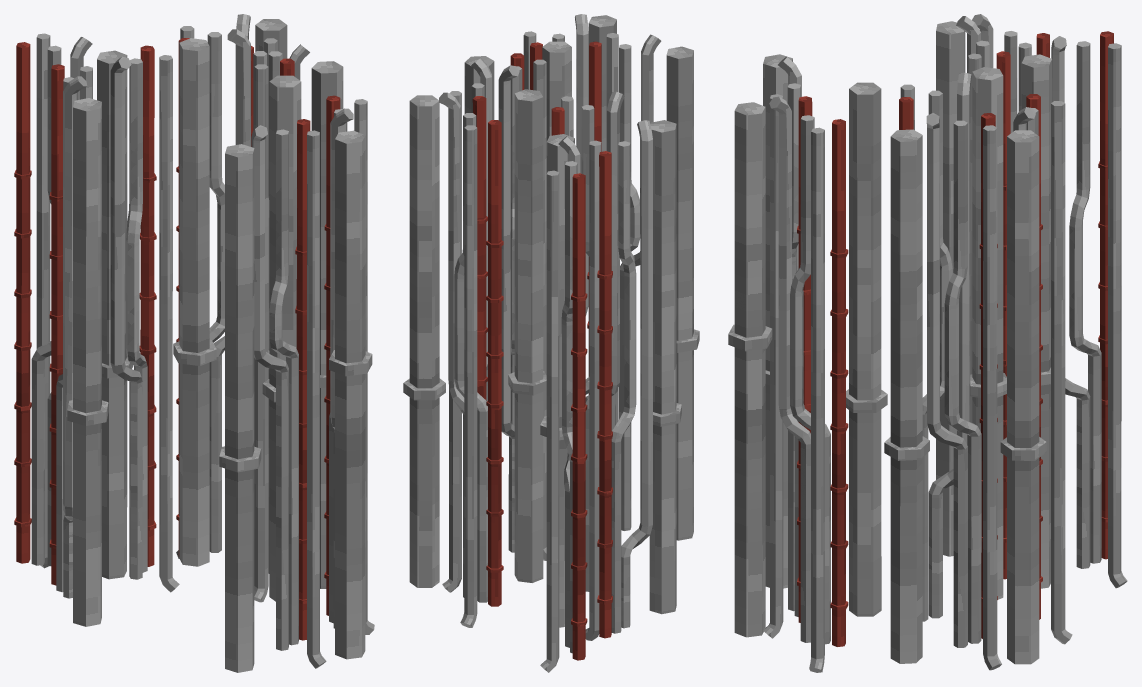
The model's file is gas-pipes.glb.
The picture shows the model from 3 angles, left to right: view 1: azimuth 30°, elevation 25°; view 2: azimuth 150°, elevation 25°; view 3: azimuth 270°, elevation 25°; orthographic projection. The views are drawn at different scales.
Visible parts, largest first — view 1: gas-pipes; view 2: gas-pipes; view 3: gas-pipes.
Part boxes in pixels (box(x1,y1,x2,y2)): gas-pipes: box(14, 14, 374, 672); gas-pipes: box(403, 14, 699, 672); gas-pipes: box(728, 14, 1127, 672).
Bounding box in the file's own units: 1.56 × 3.29 × 2.08.
1 material, 1 textured.
